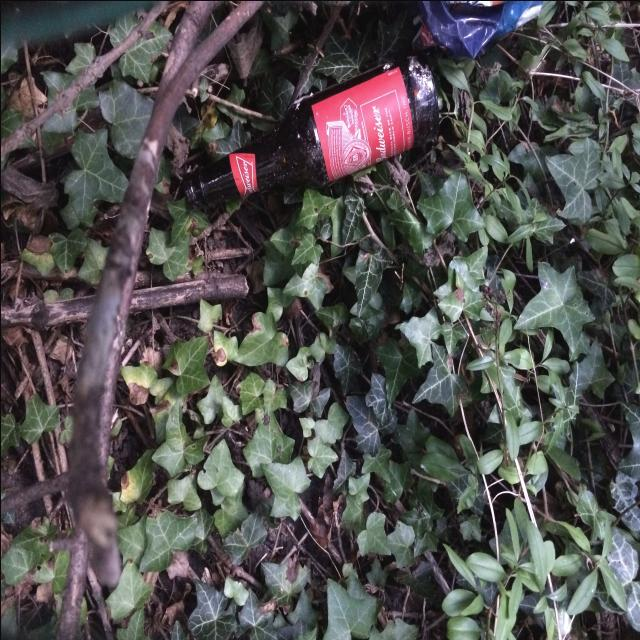Glass bottle: (182, 53, 438, 210)
Other plastic: (413, 1, 542, 57)
